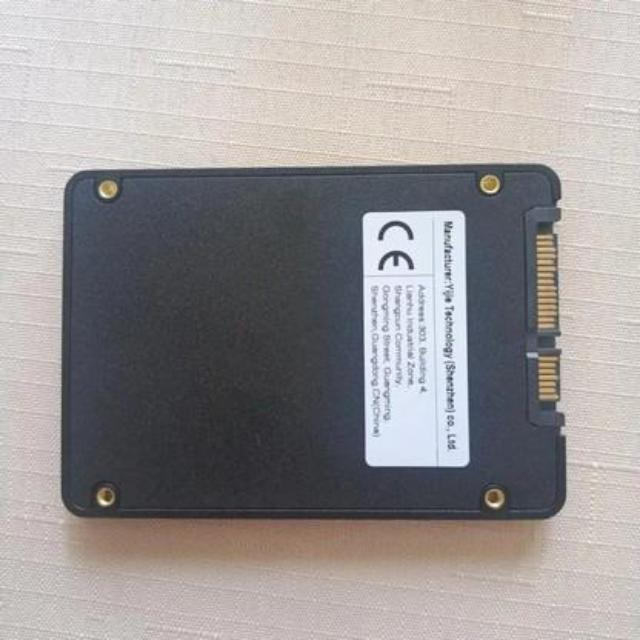DISK: (51, 163, 574, 528)
